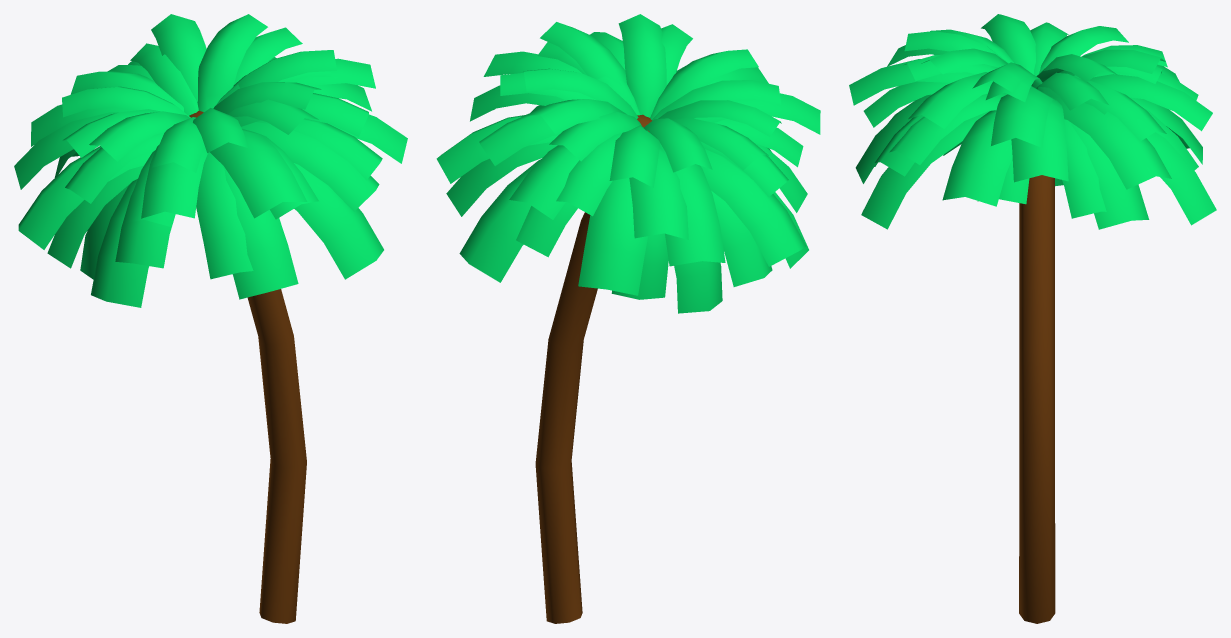
Rendered from Low_tree_2.fbx.
3 views of the same model, side by side, from view 1: azimuth 30°, elevation 25°; view 2: azimuth 150°, elevation 25°; view 3: azimuth 270°, elevation 25° (orthographic). The views are drawn at different scales.
Parts seen in each view (by area): view 1: Low_tree_2; view 2: Low_tree_2; view 3: Low_tree_2.
Boxes of the visible parts, x1,y1,x2,y2 form: Low_tree_2: (14, 14, 407, 623); Low_tree_2: (436, 14, 820, 623); Low_tree_2: (849, 14, 1216, 623).
Bounding box in the file's own units: 455 × 739 × 447.
